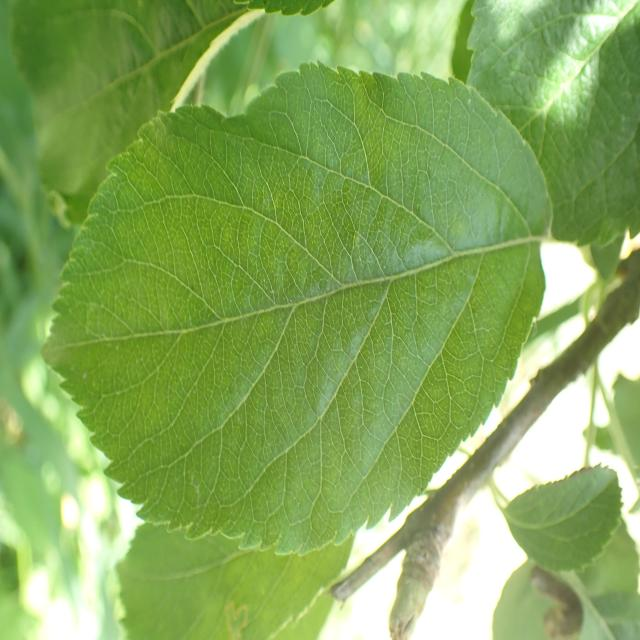healthy: (42, 60, 555, 555), (8, 0, 257, 228), (464, 0, 640, 247), (113, 517, 354, 640), (502, 464, 624, 572)
